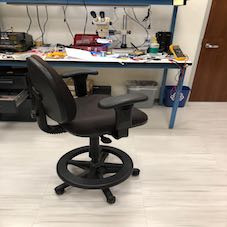chair: (15, 40, 167, 214)
